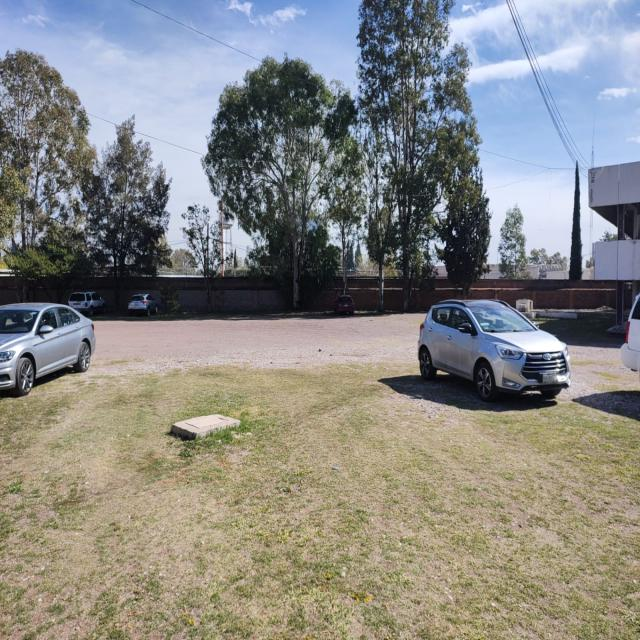Auto: (416, 294, 568, 403), (0, 302, 96, 392), (69, 291, 106, 316), (128, 293, 158, 316), (335, 294, 356, 318)
